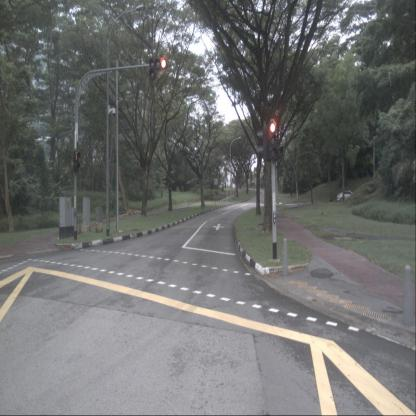vehicle-car: (337, 190, 358, 203)
